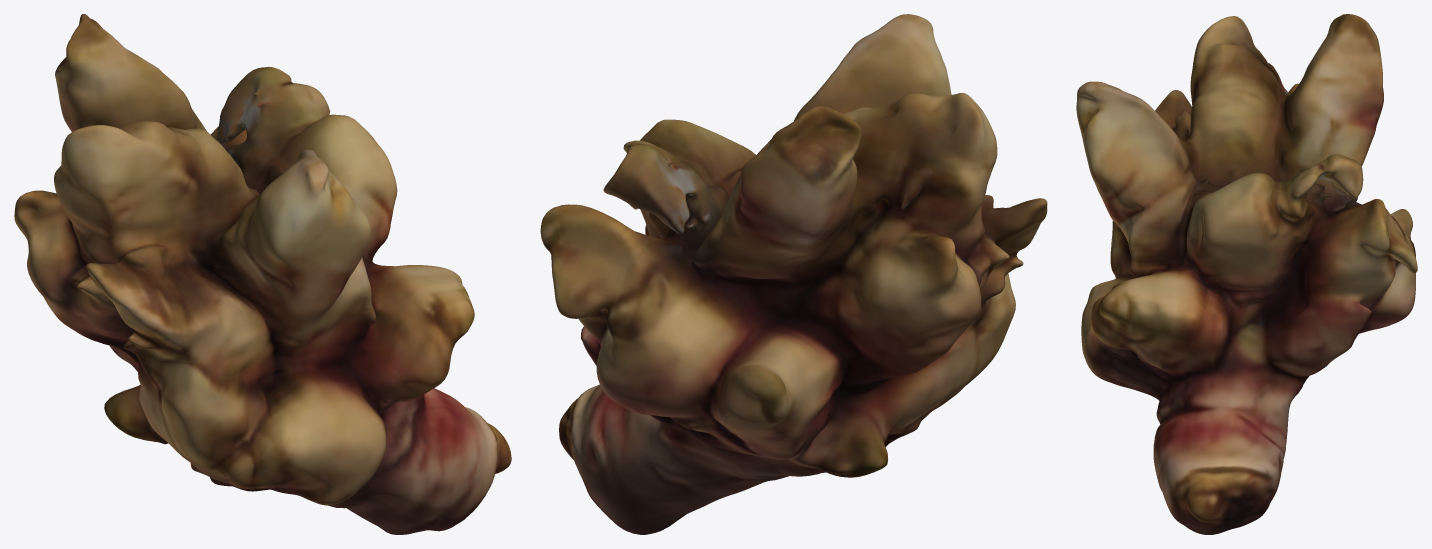
The model's file is Galangal.gltf.
3 renders of one model, left to right at view 1: azimuth 30°, elevation 25°; view 2: azimuth 150°, elevation 25°; view 3: azimuth 270°, elevation 25°, orthographic. The views are drawn at different scales.
Visible parts, largest first — view 1: high_poly; view 2: high_poly; view 3: high_poly.
Boxes of the visible parts, x1,y1,x2,y2 form: high_poly: [14, 14, 511, 534]; high_poly: [540, 14, 1047, 534]; high_poly: [1076, 14, 1417, 534].
Bounding box in the file's own units: 0.8953 × 1 × 0.7397.
Materials: 1 (1 with a texture image).
